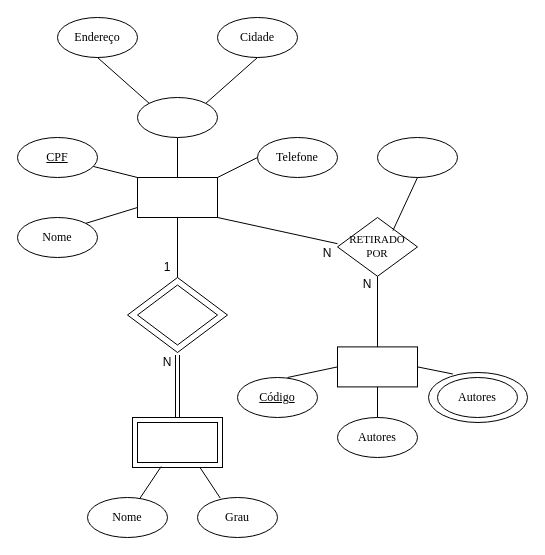
Some shapes in this 545 by 555 pixel diagram are drawn without their labels. Here are the shapes that lost their labels. From the top down, the centre of each, then its label:
the point at 177,117: Logradouro
the point at 417,157: Data
the point at 177,197: USUÁRIO
the point at 177,314: DEPENDE DE
the point at 377,366: LIVRO
the point at 177,442: DEPENDENTE
